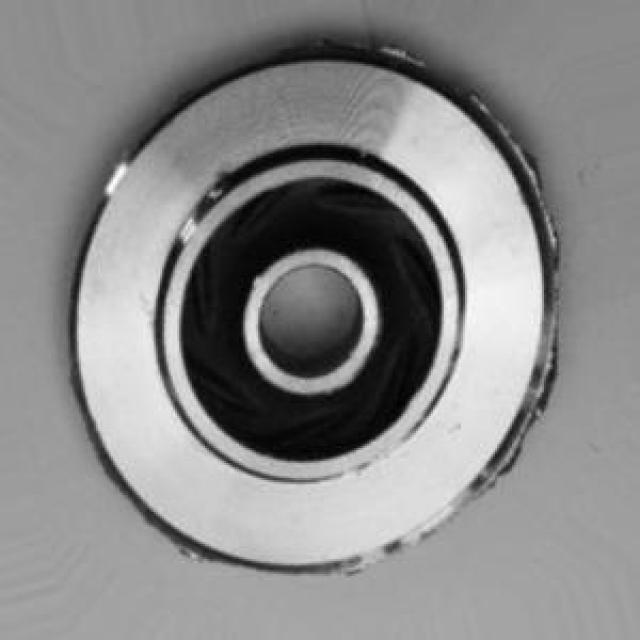Defect: (482, 100, 534, 170)
